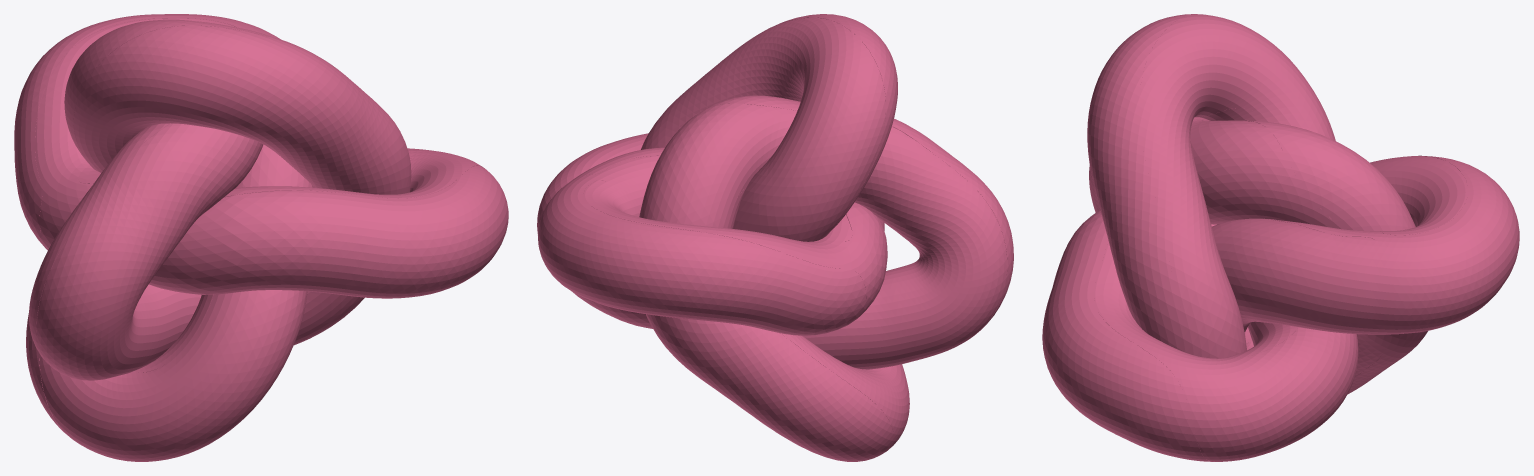
The model's file is gem_239963270.gltf.
3 renders of one model, left to right at view 1: azimuth 30°, elevation 25°; view 2: azimuth 150°, elevation 25°; view 3: azimuth 270°, elevation 25°, orthographic. The views are drawn at different scales.
Bounding box in the file's own units: 1.52 × 1.32 × 1.32.
